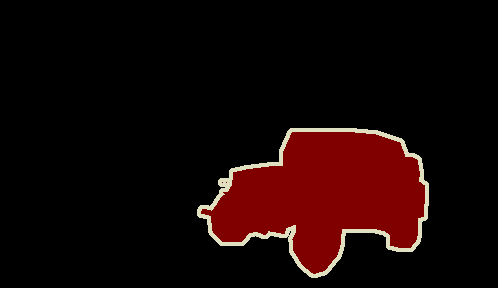car: (201, 128, 429, 272)
